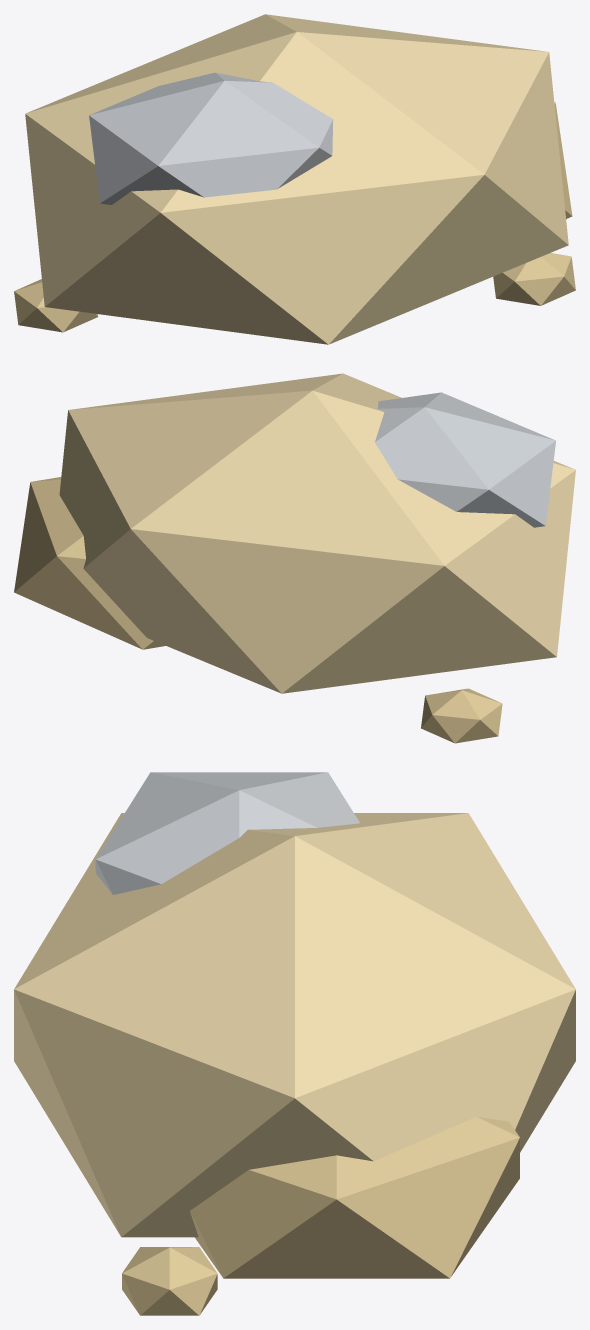
Rendered from dune_rock.glb.
The picture shows the model from 3 angles, top to bottom: view 1: azimuth 30°, elevation 25°; view 2: azimuth 150°, elevation 25°; view 3: azimuth 270°, elevation 25°; orthographic projection. The views are drawn at different scales.
Parts seen in each view (by area): view 1: main, cap, pebble_1, pebble_0, ledge; view 2: main, cap, ledge, pebble_0; view 3: main, ledge, cap, pebble_1.
Part boxes in pixels (x1,y1,x2,y2): main: (25, 14, 568, 344); cap: (89, 72, 333, 204); pebble_1: (493, 253, 575, 305); pebble_0: (14, 279, 98, 332); ledge: (554, 102, 572, 218); main: (59, 373, 575, 693); cap: (375, 392, 555, 527); ledge: (14, 477, 165, 649); pebble_0: (421, 688, 502, 743); main: (14, 813, 575, 1237); ledge: (190, 1117, 519, 1278); cap: (95, 772, 359, 894); pebble_1: (122, 1247, 217, 1315).
Bounding box in the file's own units: 1.12 × 0.6 × 0.8081.
